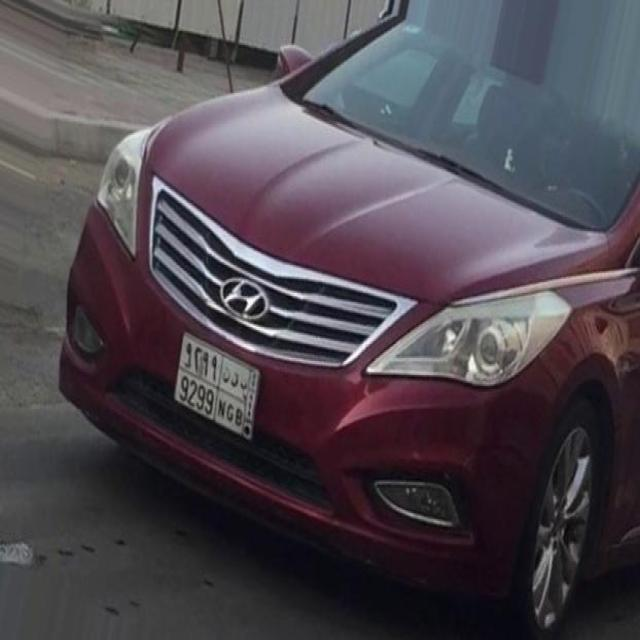Car-plate: (166, 316, 272, 449)
